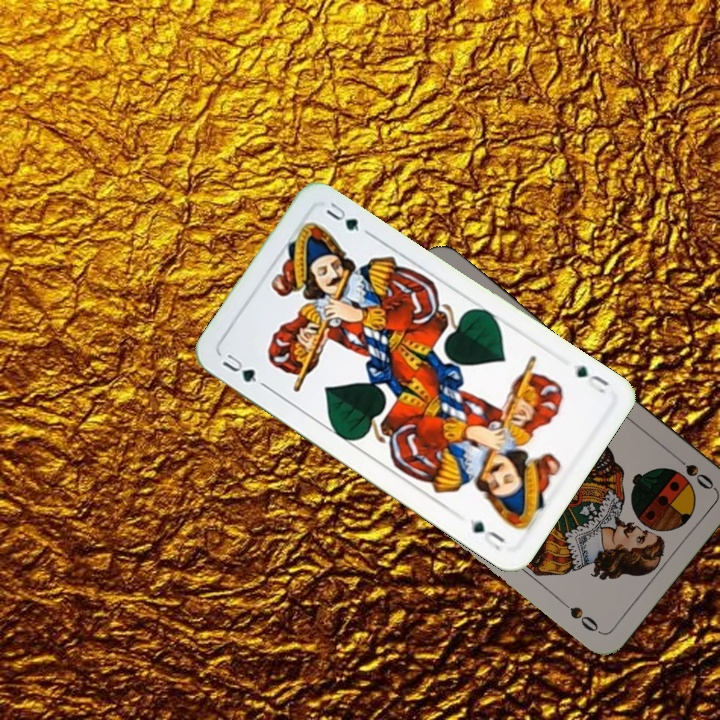GU: (218, 349, 268, 390), (572, 360, 613, 396)
SO: (667, 450, 717, 493)
